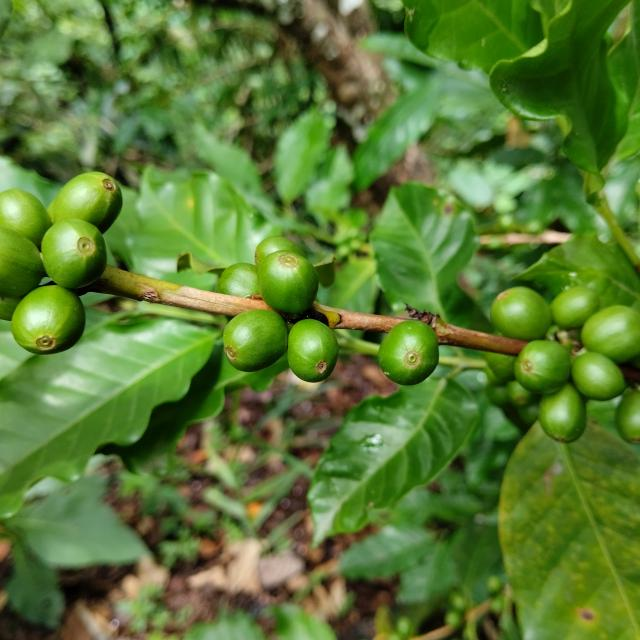green: (11, 285, 85, 355), (40, 219, 106, 289), (47, 171, 122, 232), (378, 320, 440, 386), (223, 310, 288, 372), (258, 250, 319, 314), (582, 305, 640, 363), (491, 286, 552, 341), (288, 319, 339, 383), (0, 225, 45, 297), (515, 340, 572, 394), (0, 188, 51, 247), (539, 383, 588, 443), (572, 352, 627, 401), (551, 286, 601, 329), (255, 236, 305, 267), (216, 263, 259, 297)
